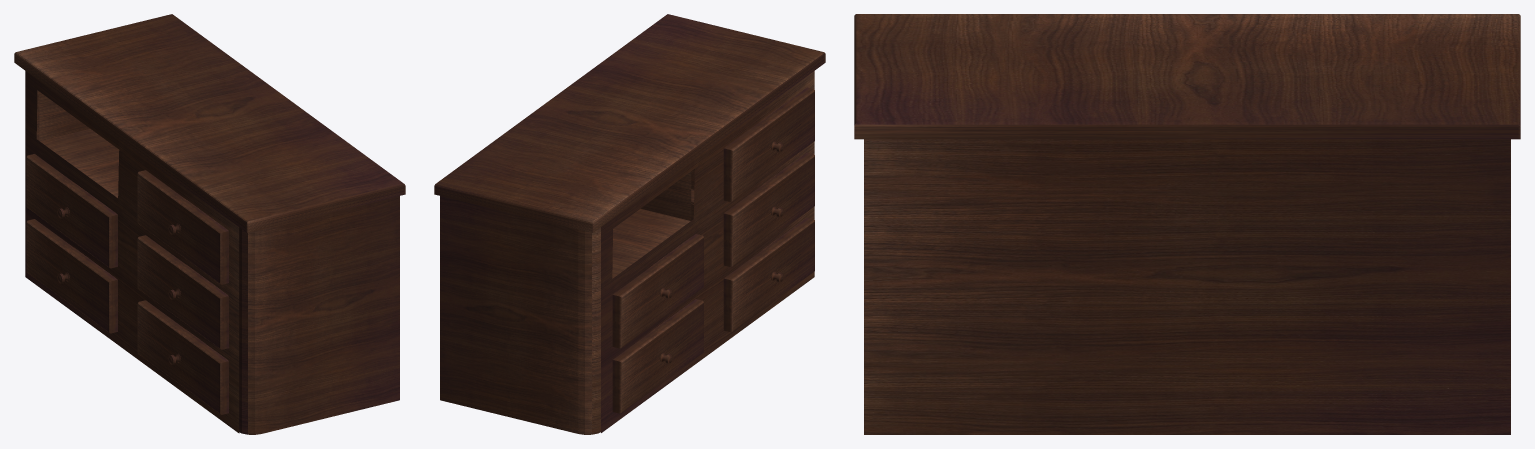
Rendered from dresser2.obj.
The picture shows the model from 3 angles, left to right: view 1: azimuth 30°, elevation 25°; view 2: azimuth 150°, elevation 25°; view 3: azimuth 270°, elevation 25°; orthographic projection. The views are drawn at different scales.
Parts seen in each view (by area): view 1: Dresser_Unit_GrouppCube3, polySurface9Dresser_Unit_GrouppolySurface49polySurface16, polySurface9Dresser_Unit_GrouppolySurface16polySurface50, DrawerpCube4polySurface25, DrawerpCube4polySurface37, DrawerpCube4polySurface43, DrawerpCube4polySurface22, DrawerpCube4polySurface31, polySurface9Dresser_Unit_GrouppolySurface21; view 2: Dresser_Unit_GrouppCube3, polySurface9Dresser_Unit_GrouppolySurface49polySurface16, polySurface9Dresser_Unit_GrouppolySurface16polySurface50, DrawerpCube4polySurface25, DrawerpCube4polySurface31, DrawerpCube4polySurface37, DrawerpCube4polySurface22, DrawerpCube4polySurface43, polySurface9Dresser_Unit_GrouppolySurface21; view 3: polySurface9Dresser_Unit_GrouppolySurface49polySurface16, Dresser_Unit_GrouppCube3.
Boxes of the visible parts, bbox=[...] form: Dresser_Unit_GrouppCube3: bbox=[14, 14, 405, 232]; polySurface9Dresser_Unit_GrouppolySurface49polySurface16: bbox=[36, 90, 399, 434]; polySurface9Dresser_Unit_GrouppolySurface16polySurface50: bbox=[25, 71, 239, 433]; DrawerpCube4polySurface25: bbox=[137, 235, 228, 349]; DrawerpCube4polySurface37: bbox=[26, 219, 117, 333]; DrawerpCube4polySurface43: bbox=[137, 300, 228, 414]; DrawerpCube4polySurface22: bbox=[137, 170, 228, 284]; DrawerpCube4polySurface31: bbox=[26, 154, 117, 268]; polySurface9Dresser_Unit_GrouppolySurface21: bbox=[39, 92, 119, 197]; Dresser_Unit_GrouppCube3: bbox=[434, 14, 825, 232]; polySurface9Dresser_Unit_GrouppolySurface49polySurface16: bbox=[440, 196, 600, 434]; polySurface9Dresser_Unit_GrouppolySurface16polySurface50: bbox=[601, 71, 814, 432]; DrawerpCube4polySurface25: bbox=[723, 152, 814, 266]; DrawerpCube4polySurface31: bbox=[612, 234, 703, 348]; DrawerpCube4polySurface37: bbox=[612, 299, 703, 413]; DrawerpCube4polySurface22: bbox=[723, 87, 814, 201]; DrawerpCube4polySurface43: bbox=[723, 217, 814, 332]; polySurface9Dresser_Unit_GrouppolySurface21: bbox=[612, 171, 691, 278]; polySurface9Dresser_Unit_GrouppolySurface49polySurface16: bbox=[864, 139, 1510, 434]; Dresser_Unit_GrouppCube3: bbox=[854, 14, 1520, 139].
Size of the model in its own units: 3.53 by 4.2 by 8.11.
